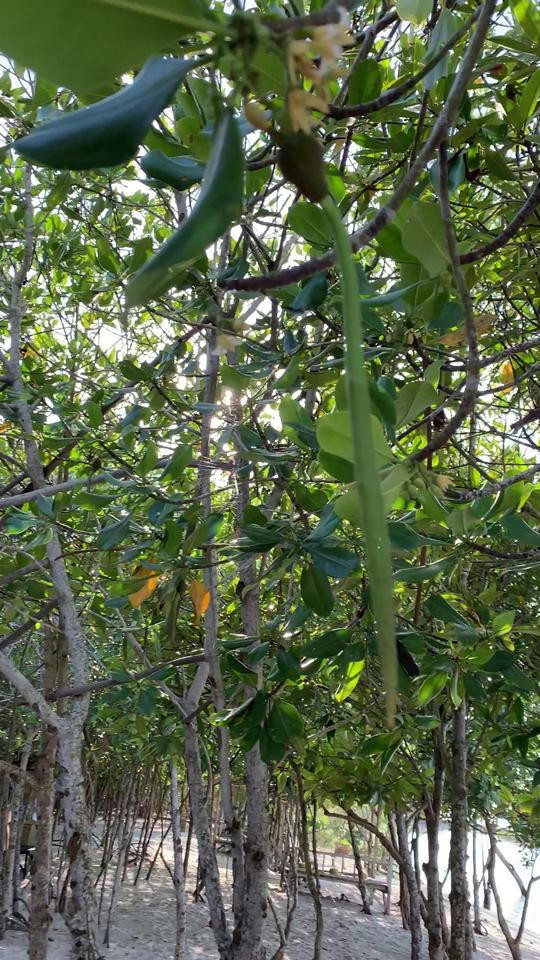mentah: (246, 118, 412, 741)
